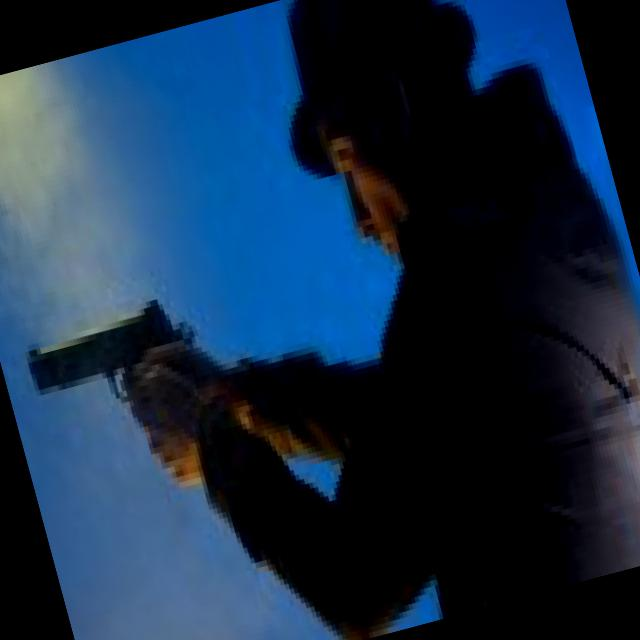handgun: (2, 260, 242, 492)
